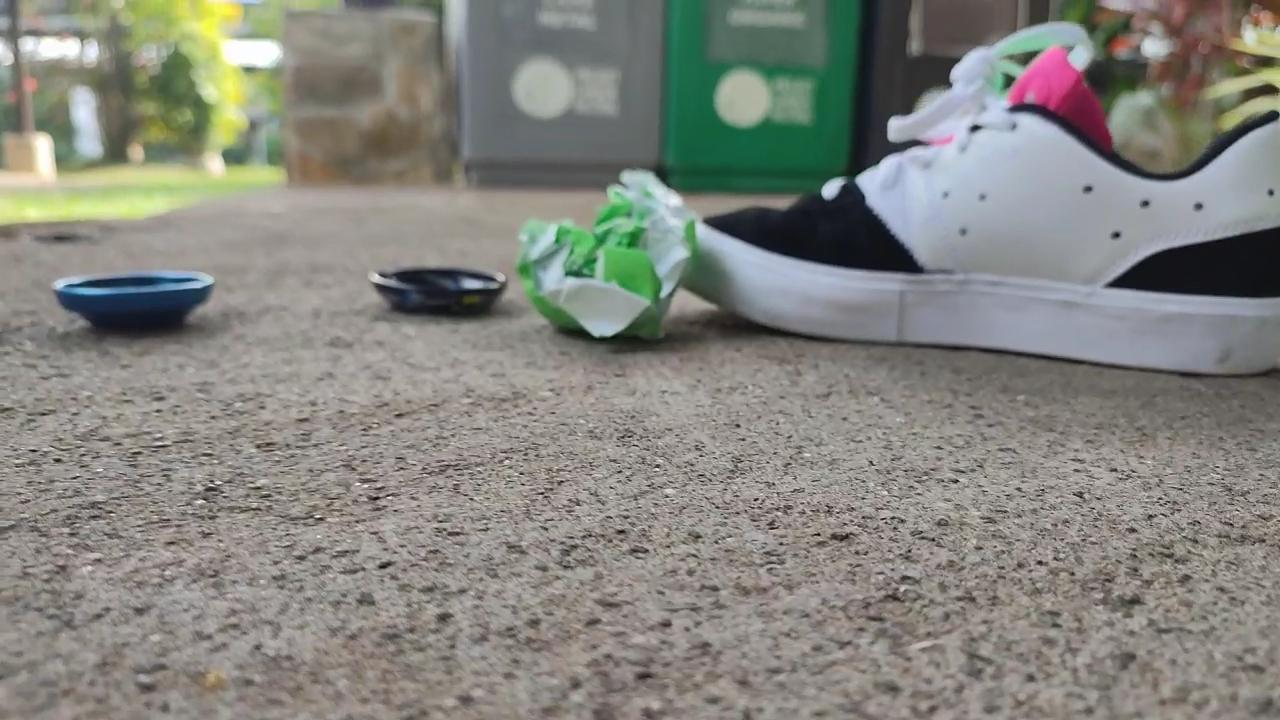Paper: (514, 145, 704, 355)
